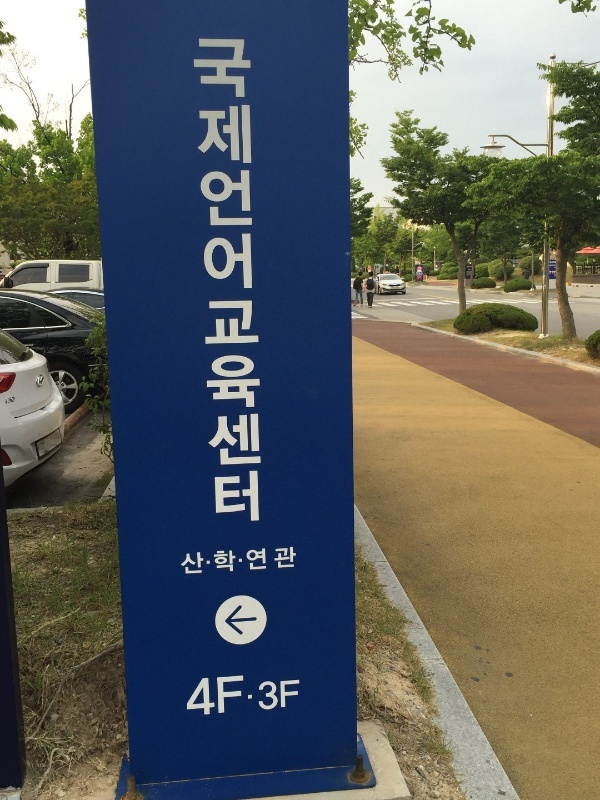text: (193, 32, 208, 533), (209, 32, 224, 533), (225, 32, 240, 533), (241, 32, 256, 533), (257, 32, 269, 533), (189, 32, 192, 533), (193, 674, 208, 718), (209, 674, 224, 718), (225, 674, 240, 718), (241, 674, 256, 718), (257, 674, 272, 718), (273, 674, 288, 718), (289, 674, 300, 718), (193, 546, 208, 577), (209, 546, 224, 577), (225, 546, 240, 577), (241, 546, 256, 577), (257, 546, 272, 577), (273, 546, 288, 577), (181, 546, 192, 577), (289, 546, 297, 577), (187, 674, 192, 718)
